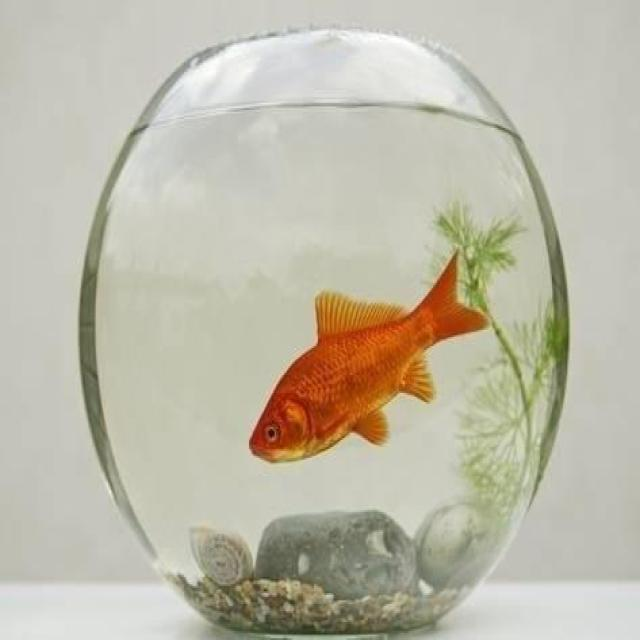GoldFish: (243, 243, 492, 472)
